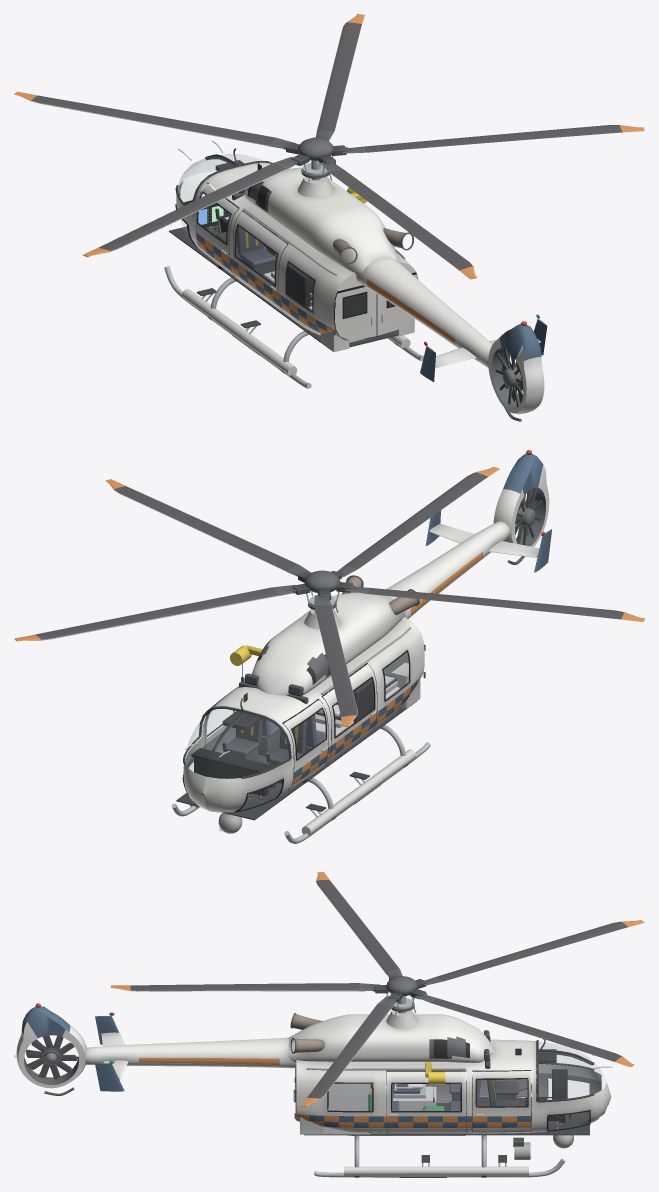
Rendered from nightjar_n4.glb.
3 views of the same model, one above another, from view 1: azimuth 30°, elevation 25°; view 2: azimuth 150°, elevation 25°; view 3: azimuth 270°, elevation 25° (orthographic). The views are drawn at different scales.
Parts seen in each view (by area): view 1: Fuselage skin (game), Engine cowling (game), Tail boom (game), Door skin.003 (game), Shroud (game), Main rotor blade.003 (game), Main rotor blade.004 (game), Main rotor blade.001 (game), Main rotor blade (game), Main rotor blade.002 (game), Door skin.002 (game), Float pack (game) (+8 smaller); view 2: Fuselage skin (game), Engine cowling (game), Tail boom (game), Main rotor blade.002 (game), Main rotor blade.001 (game), Shroud (game), Main rotor blade.003 (game), Main rotor blade.004 (game), Door skin.003 (game), Door skin.002 (game), Main rotor blade (game), Float pack (game) (+7 smaller); view 3: Fuselage skin (game), Engine cowling (game), Tail boom (game), Door skin.001 (game), Door skin (game), Shroud (game), Main rotor blade (game), Main rotor blade.001 (game), Float pack.001 (game), Main rotor blade.002 (game), Main rotor blade.003 (game), Main rotor blade.004 (game) (+9 smaller).
Part boxes in pixels (x1,y1,x2,y2): Fuselage skin (game): [176, 154, 411, 340]; Engine cowling (game): [244, 167, 398, 275]; Tail boom (game): [356, 258, 492, 367]; Door skin.003 (game): [233, 211, 287, 312]; Shroud (game): [488, 323, 544, 414]; Main rotor blade.003 (game): [14, 91, 296, 148]; Main rotor blade.004 (game): [82, 157, 296, 256]; Main rotor blade.001 (game): [342, 125, 644, 153]; Main rotor blade (game): [320, 162, 476, 279]; Main rotor blade.002 (game): [316, 14, 364, 140]; Door skin.002 (game): [196, 183, 238, 275]; Float pack (game): [182, 289, 297, 375]; Fuselage skin (game): [183, 617, 424, 812]; Engine cowling (game): [252, 592, 405, 695]; Tail boom (game): [380, 521, 510, 618]; Main rotor blade.002 (game): [14, 585, 295, 641]; Main rotor blade.001 (game): [105, 479, 311, 576]; Shroud (game): [493, 453, 549, 546]; Main rotor blade.003 (game): [314, 595, 357, 726]; Main rotor blade.004 (game): [345, 586, 644, 621]; Door skin.003 (game): [323, 664, 376, 764]; Door skin.002 (game): [284, 700, 327, 790]; Main rotor blade (game): [337, 466, 499, 576]; Float pack (game): [301, 749, 416, 835]; Fuselage skin (game): [296, 1039, 611, 1133]; Engine cowling (game): [288, 1014, 495, 1062]; Tail boom (game): [85, 1037, 296, 1068]; Door skin.001 (game): [386, 1071, 465, 1133]; Door skin (game): [472, 1071, 530, 1131]; Shroud (game): [16, 1006, 86, 1088]; Main rotor blade (game): [111, 983, 379, 991]; Main rotor blade.001 (game): [300, 996, 395, 1106]; Float pack.001 (game): [344, 1166, 528, 1175]; Main rotor blade.002 (game): [415, 995, 634, 1067]; Main rotor blade.003 (game): [423, 920, 644, 985]; Main rotor blade.004 (game): [316, 872, 402, 976].
Size of the model in its own units: 10.5 by 3.64 by 11.92.
